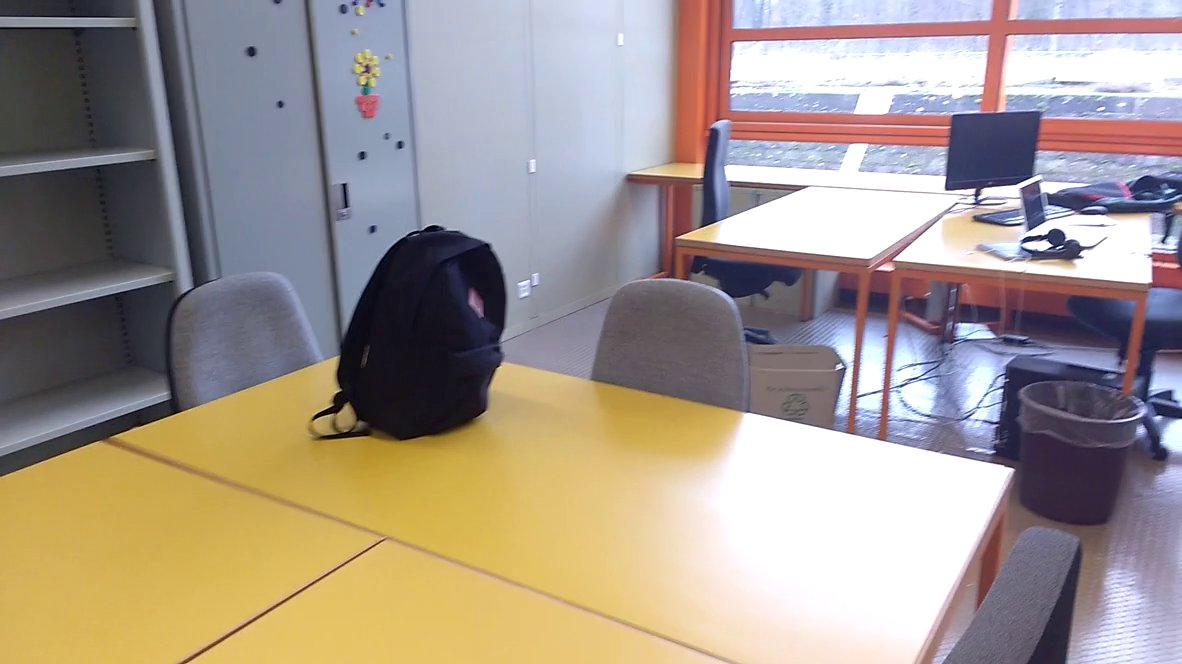bag: (304, 219, 512, 447)
bin: (1004, 374, 1152, 533)
box: (741, 329, 858, 427)
chair: (134, 259, 337, 432), (667, 111, 801, 355), (581, 273, 766, 433)
